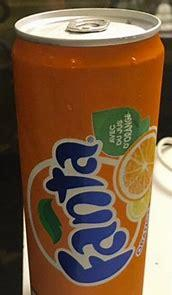metal: (13, 8, 164, 294)
